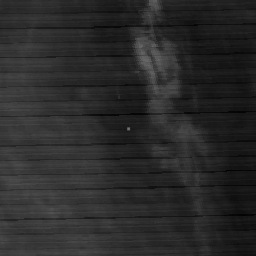Target: (125, 124, 131, 131)
